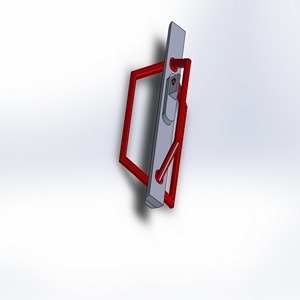submarine: (104, 15, 210, 212)
